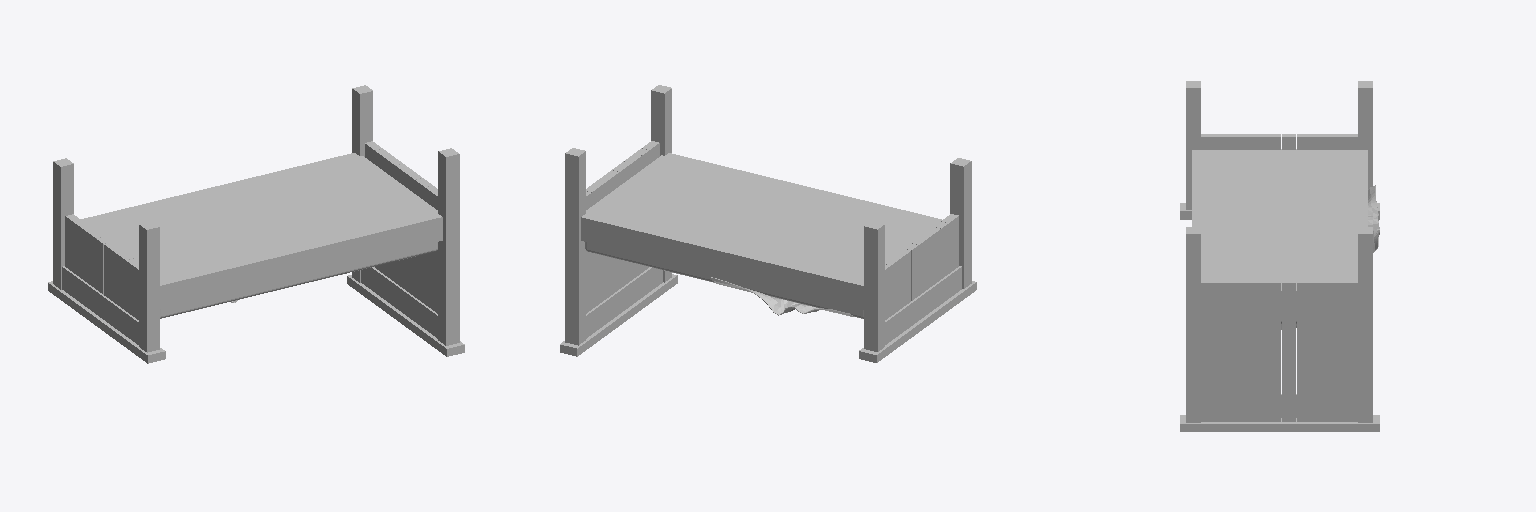
The model's file is oBed.obj.
The picture shows the model from 3 angles: view 1: azimuth 30°, elevation 25°; view 2: azimuth 150°, elevation 25°; view 3: azimuth 270°, elevation 25°; orthographic projection.
Visible parts, largest first — view 1: Old_bed; view 2: Old_bed; view 3: Old_bed.
Part boxes in pixels (bbox=[...]): Old_bed: bbox=[48, 85, 464, 363]; Old_bed: bbox=[560, 85, 976, 362]; Old_bed: bbox=[1180, 81, 1379, 431].
Bounding box in the file's own units: 2503 × 1488 × 1374.